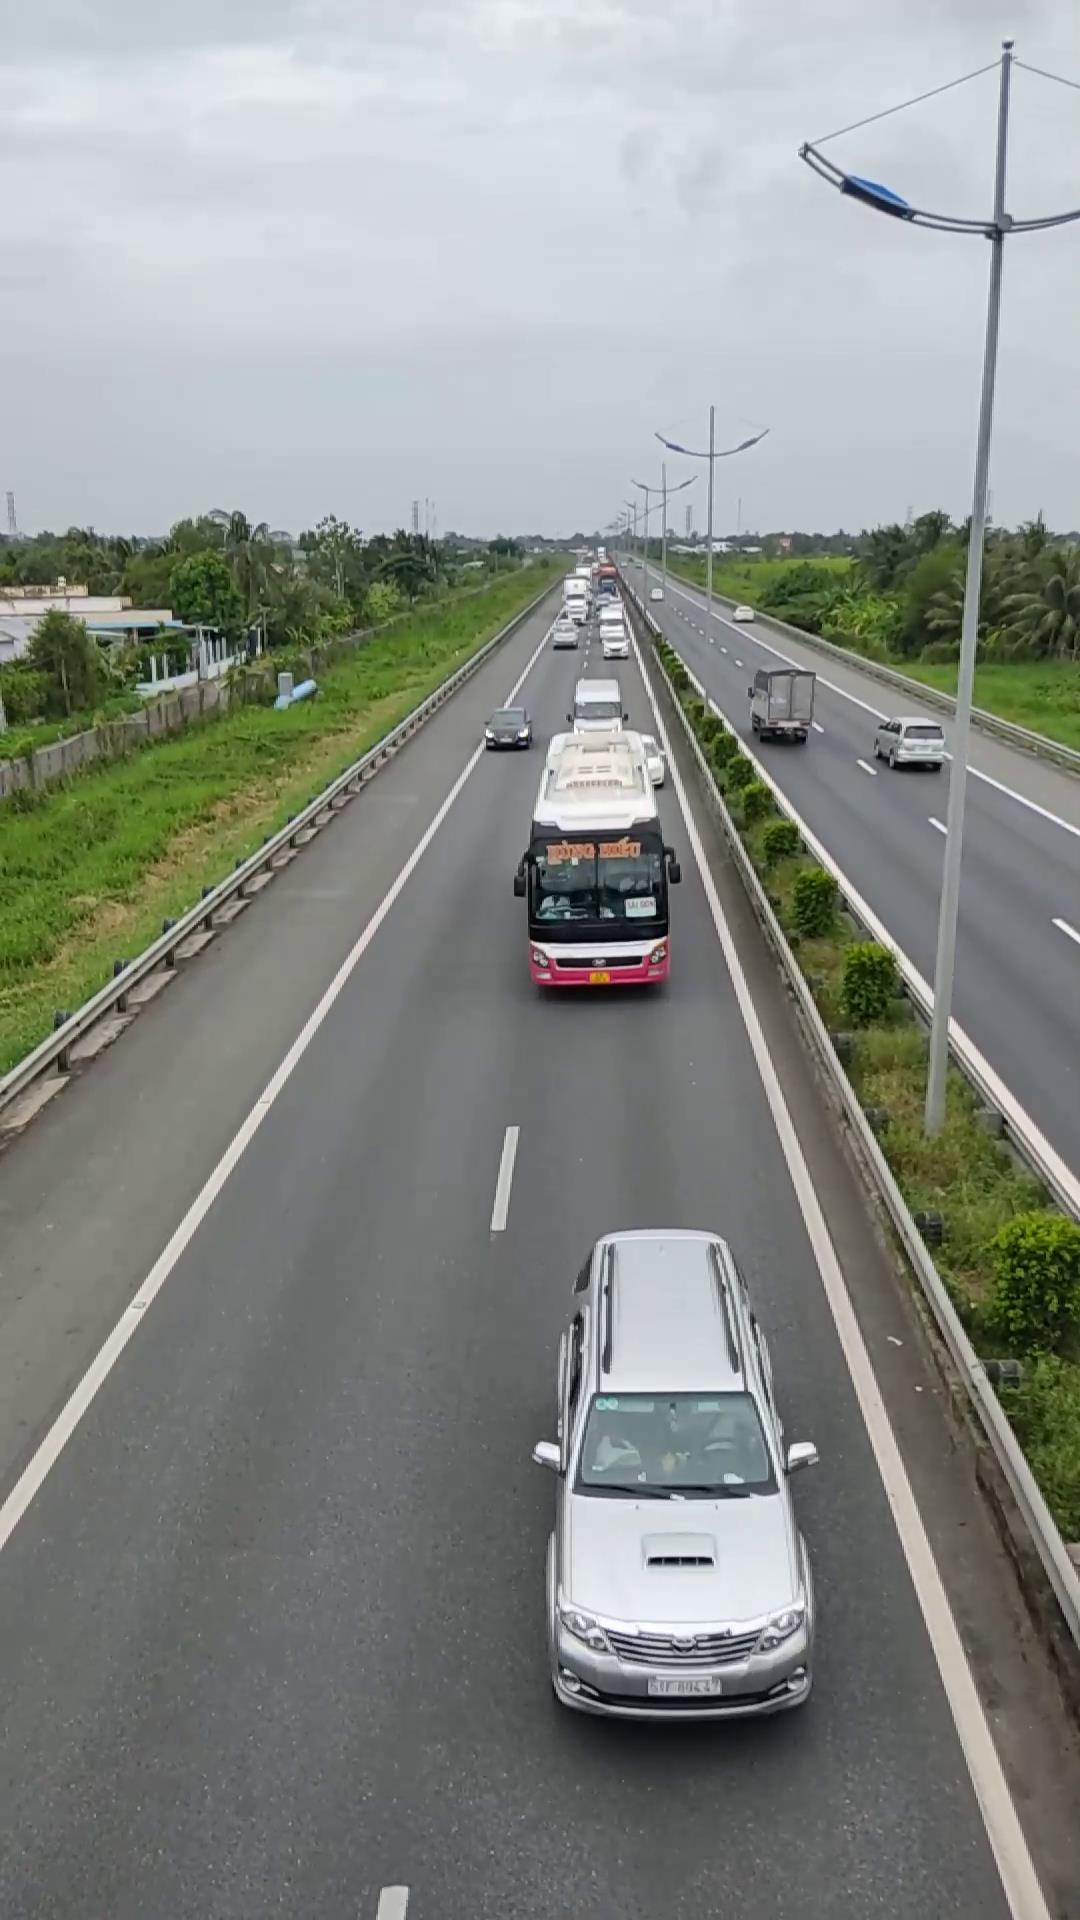bus: (513, 727, 679, 993)
car: (535, 1224, 816, 1720)
truck: (746, 663, 816, 741)
